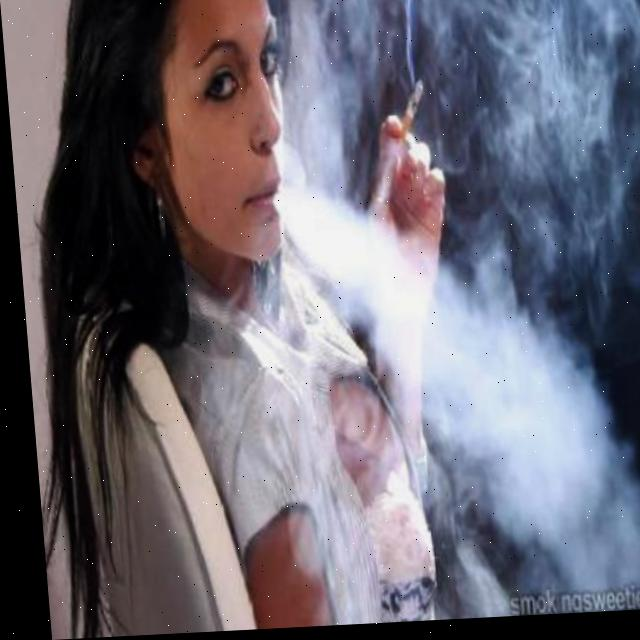cigarette: (393, 75, 427, 142)
